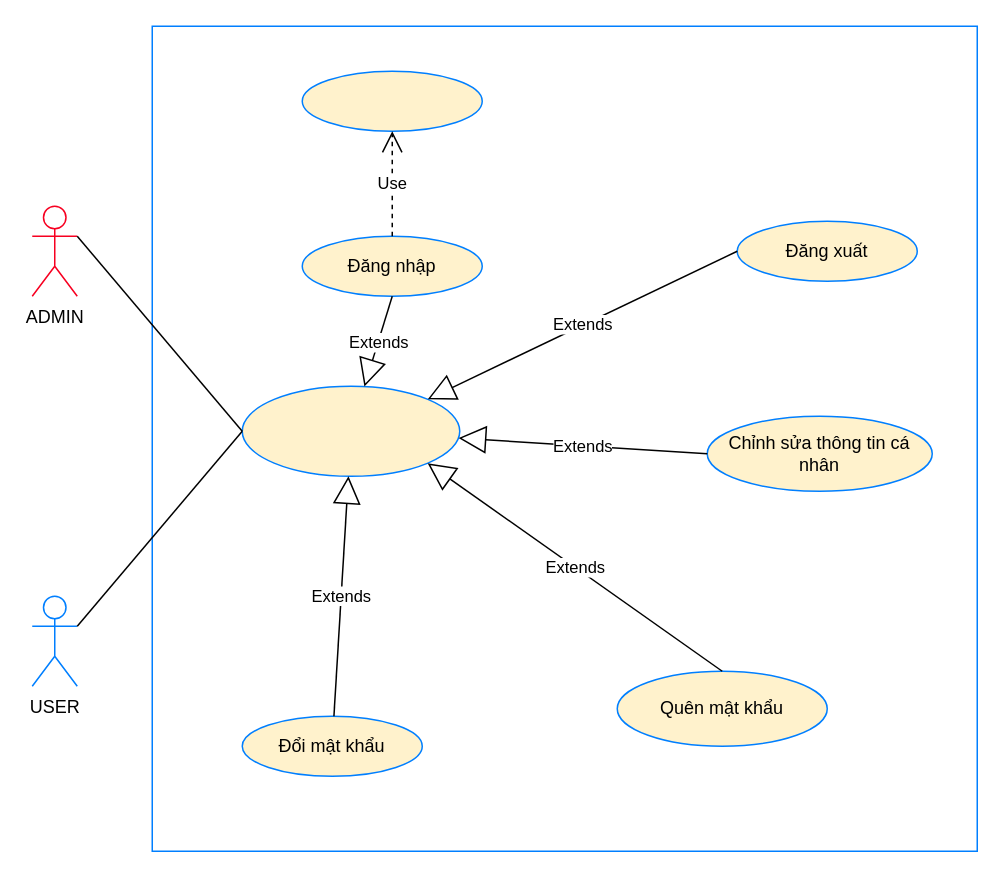
The diagram is 1004 pixels wide and 878 high, and some of its shapes have lost their labels. The box of each missing label's shape, as (x1, y1, x2, y2) in pixels:
Quản lý tài khoản: (241, 385, 460, 476)
Đăng kí: (301, 70, 482, 131)
